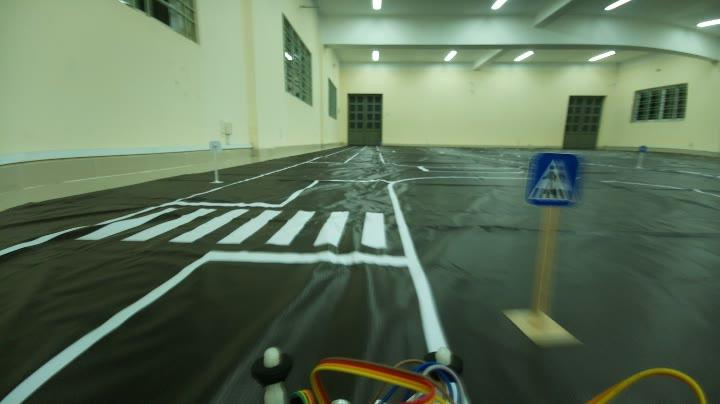crosswalk: (526, 150, 584, 212)
